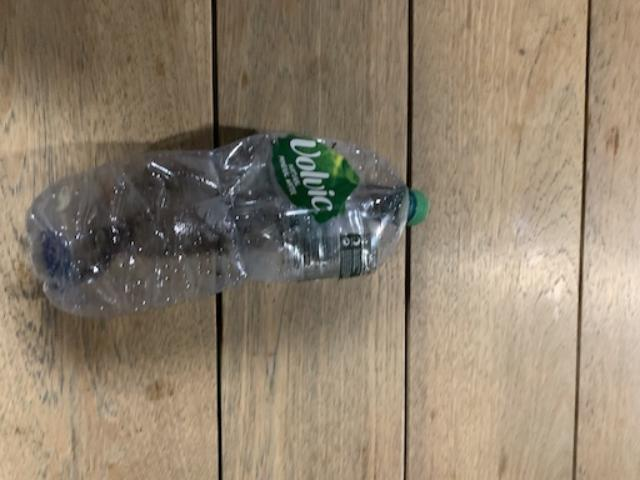plastic: (25, 131, 425, 314)
